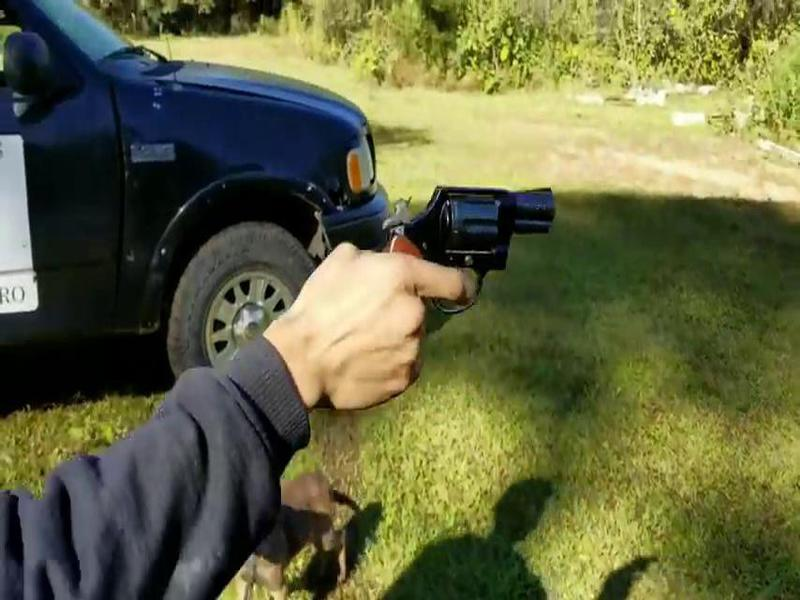Revolver: (372, 169, 547, 324)
